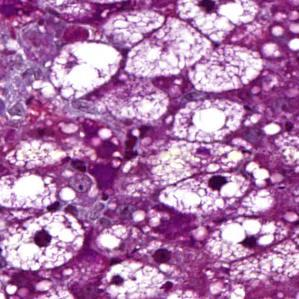ballooning: (125, 14, 211, 79), (5, 211, 87, 274), (49, 41, 125, 103), (158, 171, 252, 215), (203, 217, 289, 264)
